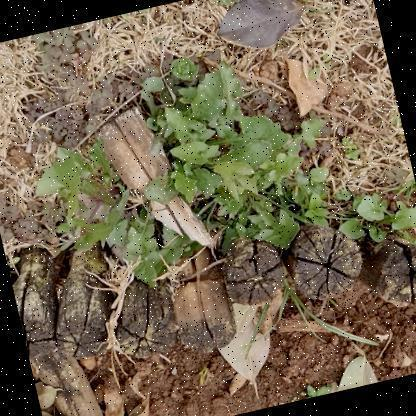Weeds: (12, 15, 415, 375)
